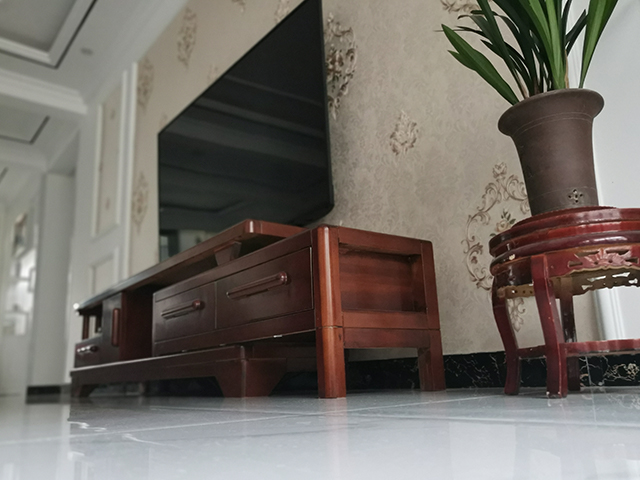cabinet: (67, 217, 448, 401)
stool: (486, 205, 640, 400)
